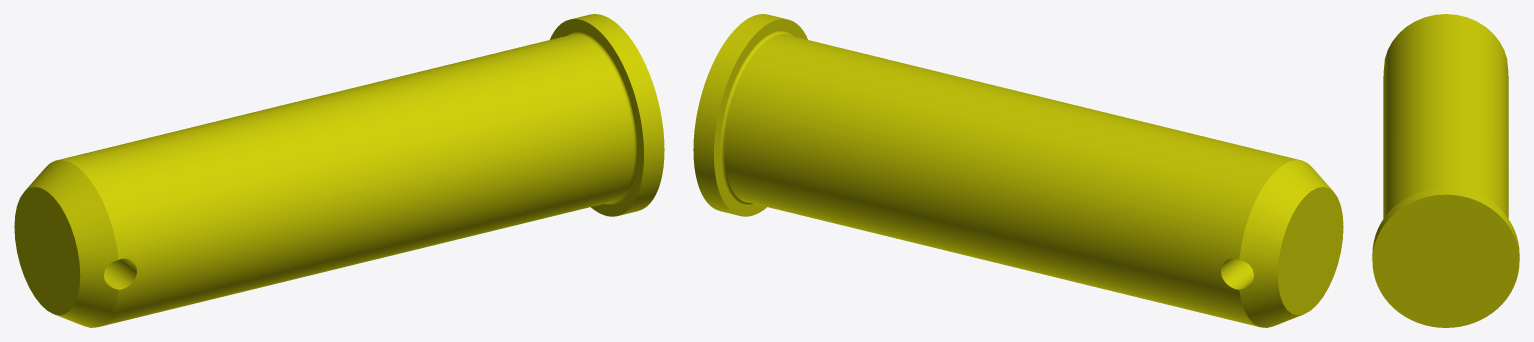
Rendered from 86699800_prt.glb.
The picture shows the model from 3 angles, left to right: view 1: azimuth 30°, elevation 25°; view 2: azimuth 150°, elevation 25°; view 3: azimuth 270°, elevation 25°; orthographic projection. The views are drawn at different scales.
Visible parts, largest first — view 1: pv0; view 2: pv0; view 3: pv0.
Part boxes in pixels (x1,y1,x2,y2): pv0: (14, 14, 664, 327); pv0: (693, 14, 1343, 327); pv0: (1372, 14, 1519, 327).
Size of the model in its own units: 0.097 by 0.03 by 0.03.
